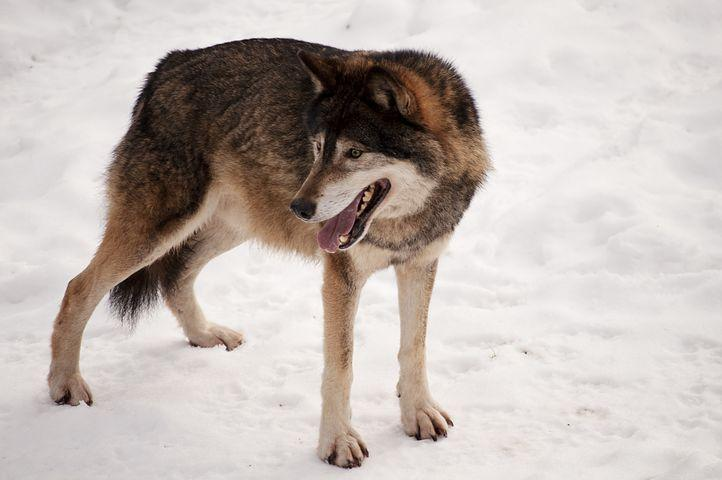fox: (48, 36, 498, 469)
